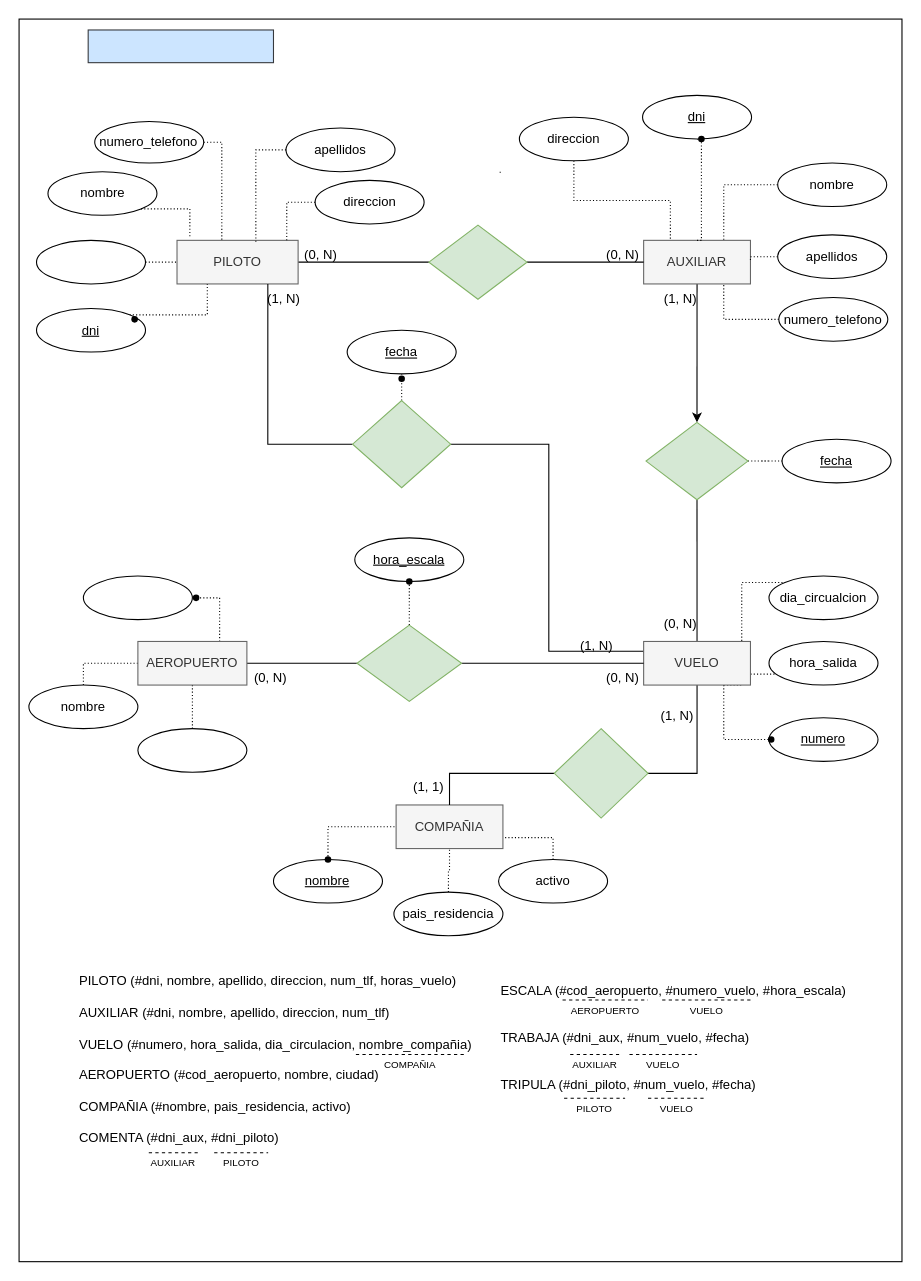
Image size: 921x1281. Some labels were removed from this diagram. Each missing label, with the centre of its shape:
"ciudad" belongs at pixel 192 750.
"codigo" belongs at pixel 137 597.
"COMENTA N:N" belongs at pixel 477 261.
"CONCEDE 1:N" belongs at pixel 600 773.
"EJER. 12 - AEROPUERTO" belongs at pixel 180 46.
"ESCALA N:N" belongs at pixel 409 662.
"horas_vuelo" belongs at pixel 90 261.
"TRABAJA N:N" belongs at pixel 696 460.
"TRIPULA N:N" belongs at pixel 401 443.
